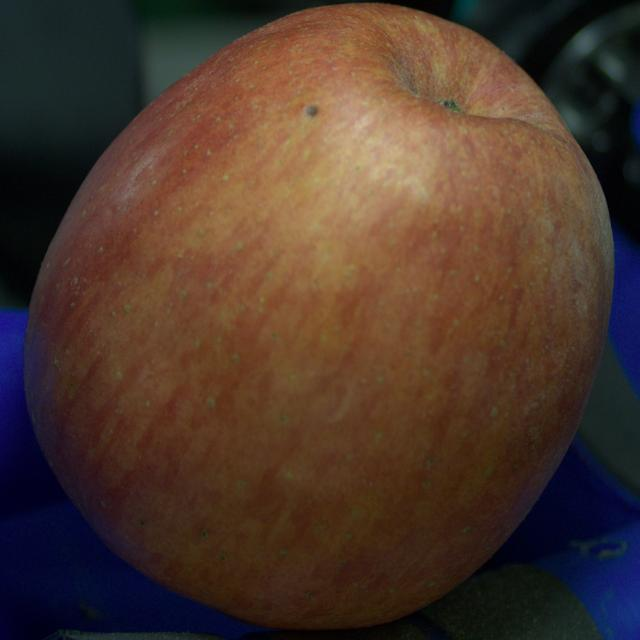apple: (24, 5, 613, 628)
pest: (305, 106, 318, 116)
